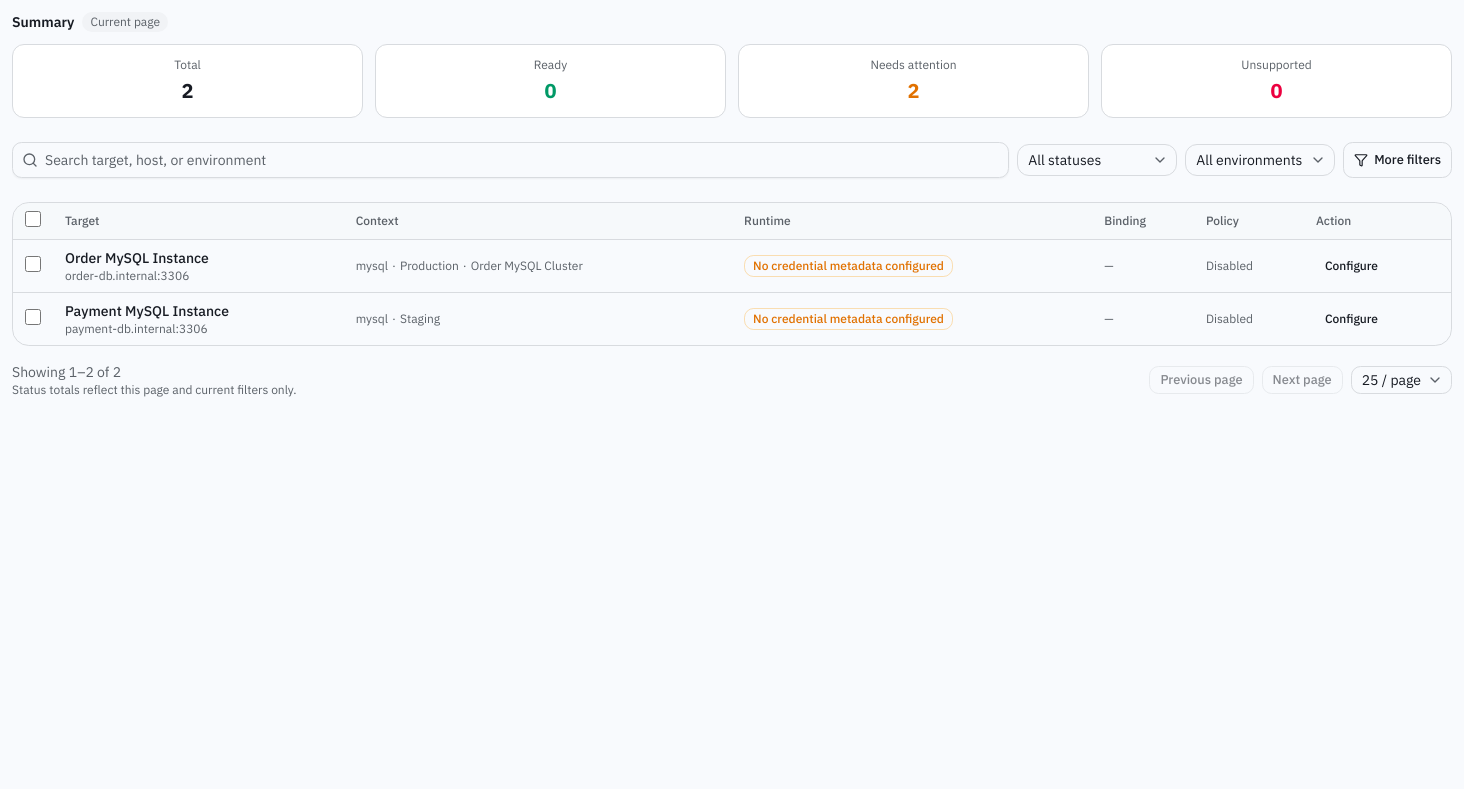
Test: QueryCredentialSettings — bulk partial results › shows per-target success and failure results after bulk apply
The image size is (1464, 789).
Expected: the button "Order MySQL Instance" is shown, [65, 248, 209, 268]
# Select all.
Click the checkbox named "Select all" at coordinates (33, 219), box [25, 211, 41, 227]
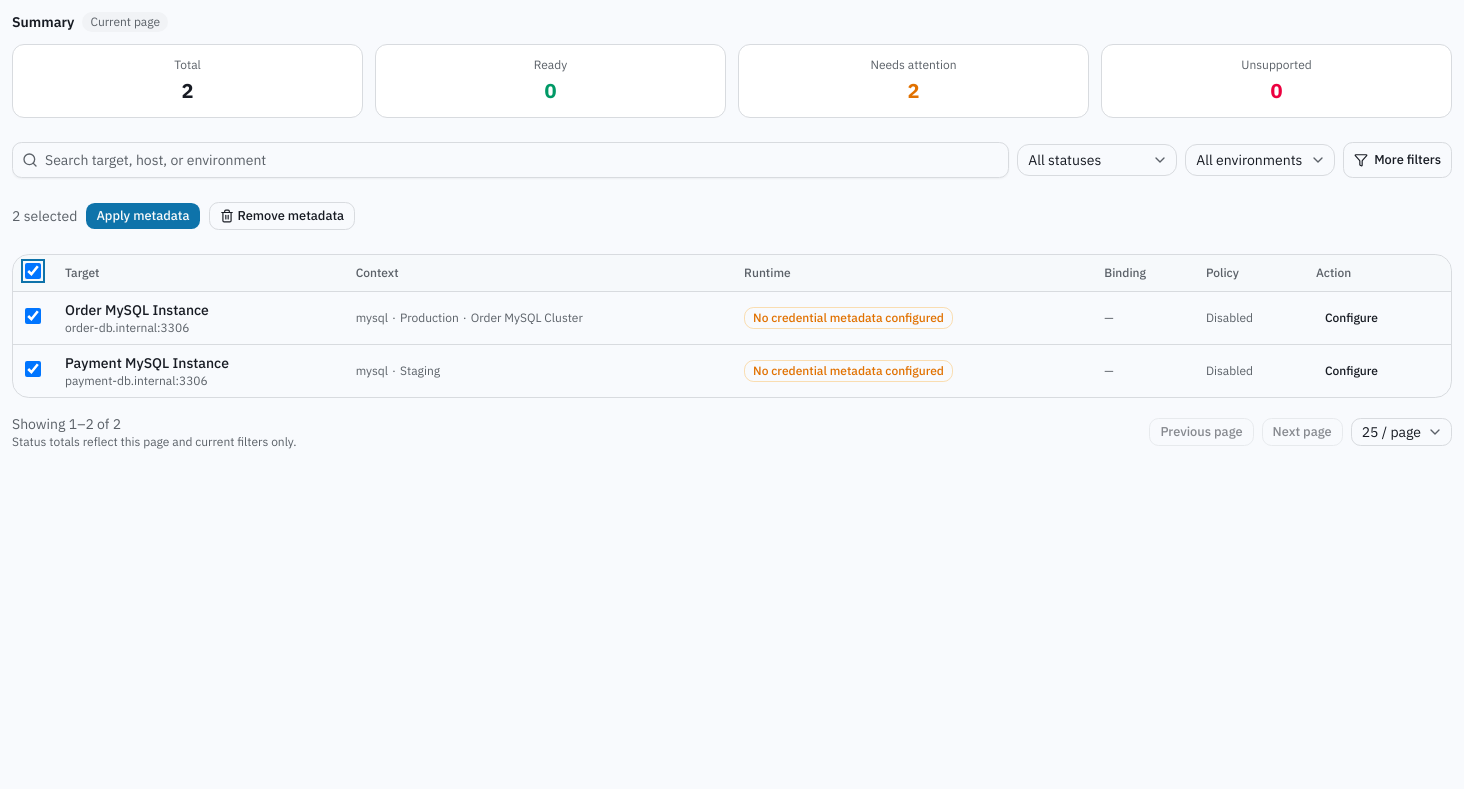
Click the button "Apply metadata" at coordinates (143, 216), box [85, 202, 200, 230]
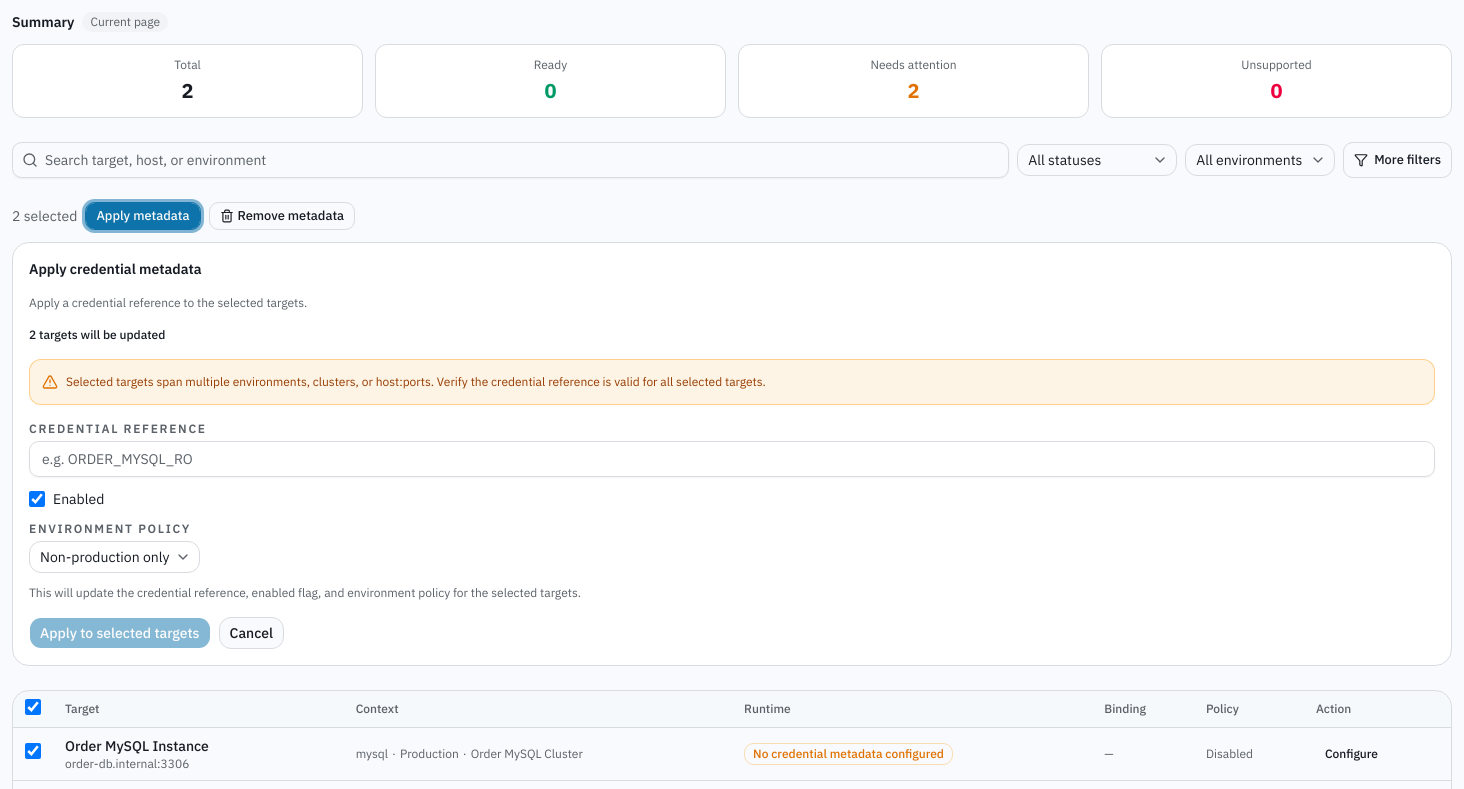
# Fill and submit.
Type "TEST_REF" into the field labelled "Credential reference" at coordinates (732, 458), box [29, 440, 1435, 476]
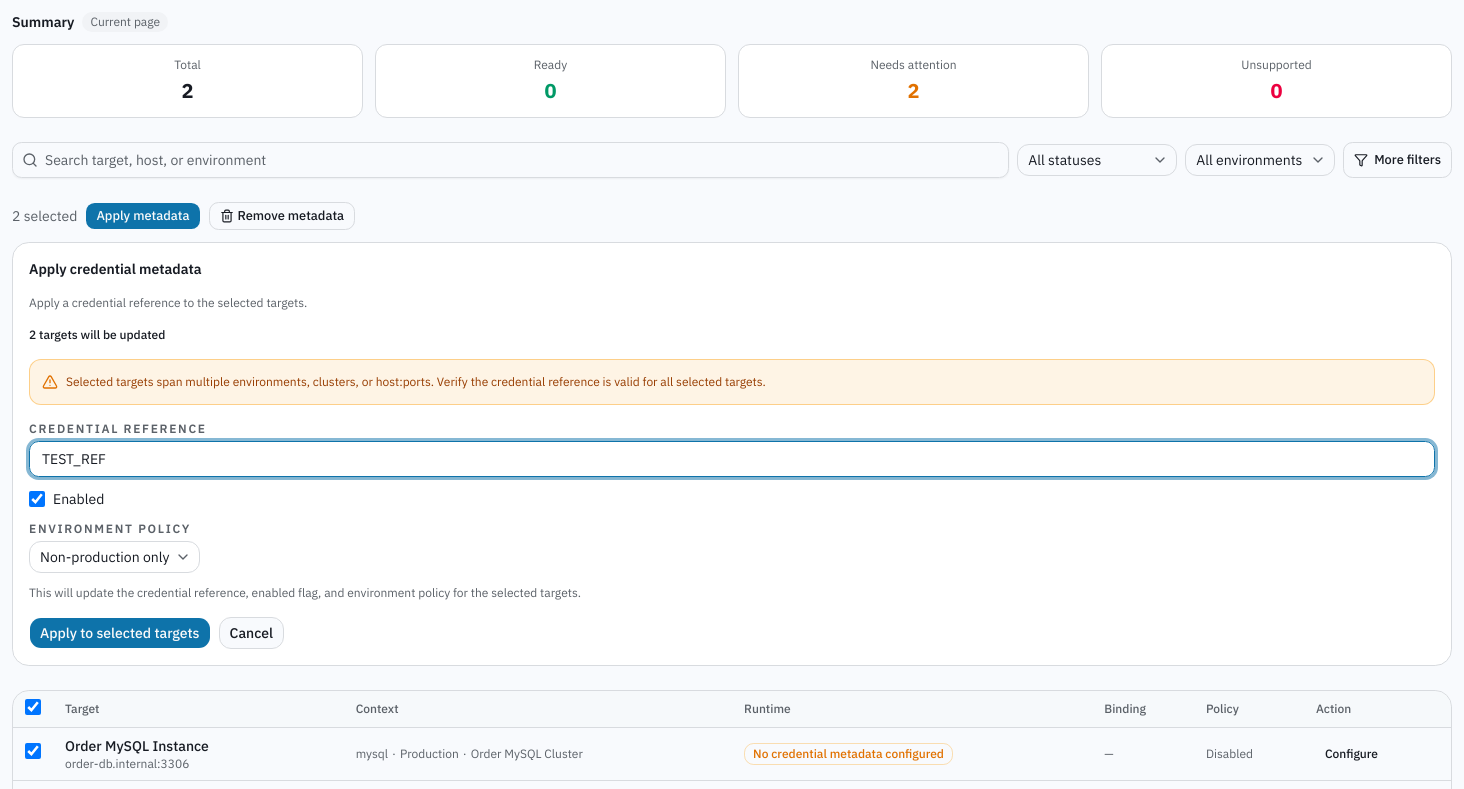
Click the button "Apply to selected targets" at coordinates (120, 632), box [29, 616, 210, 648]
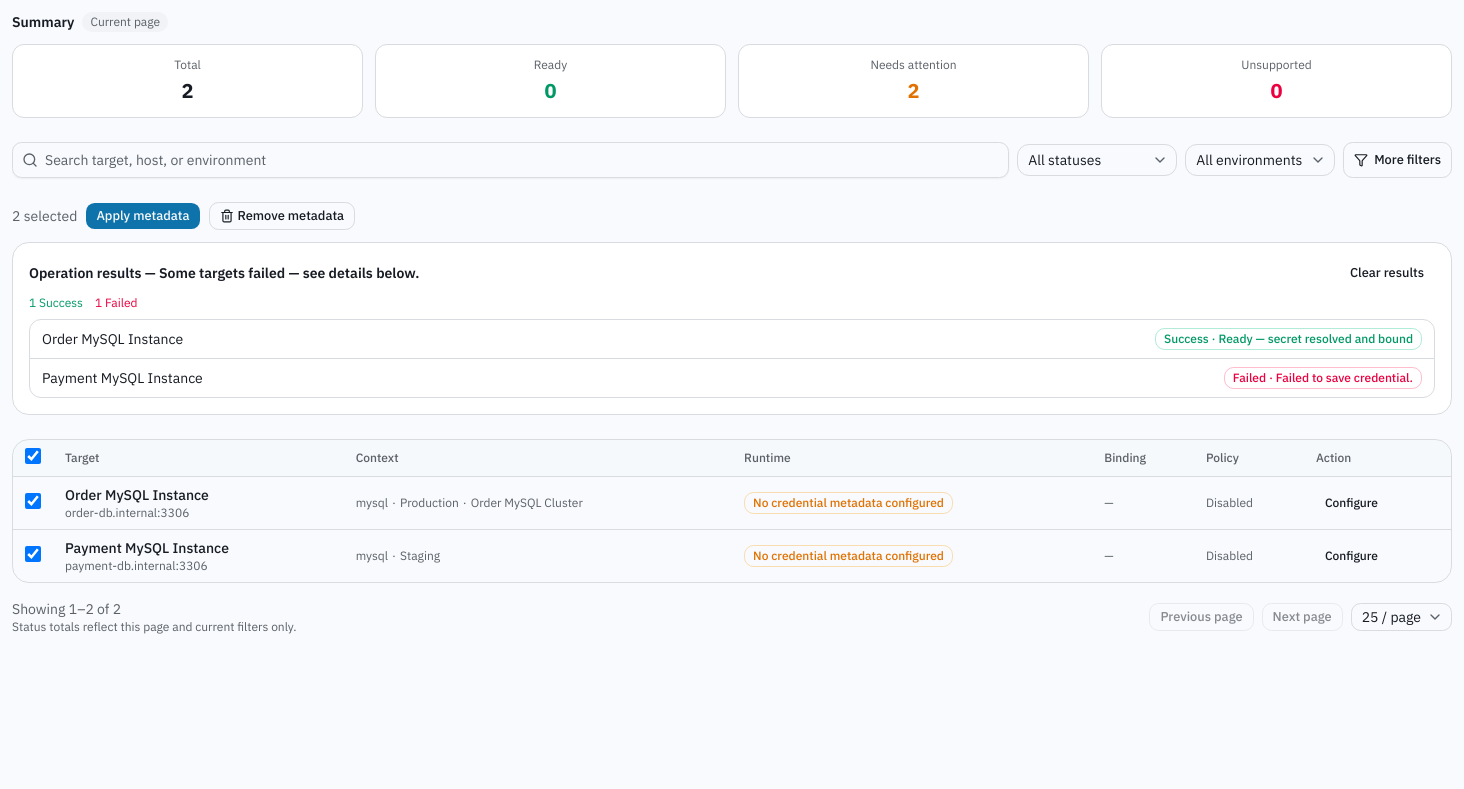
Expected: the heading "Operation results — Some targets failed — see details below." is shown, [29, 263, 419, 283]
Expected: the text "1 Success" is shown, [29, 295, 83, 311]
Expected: the text "1 Failed" is shown, [95, 295, 138, 311]
